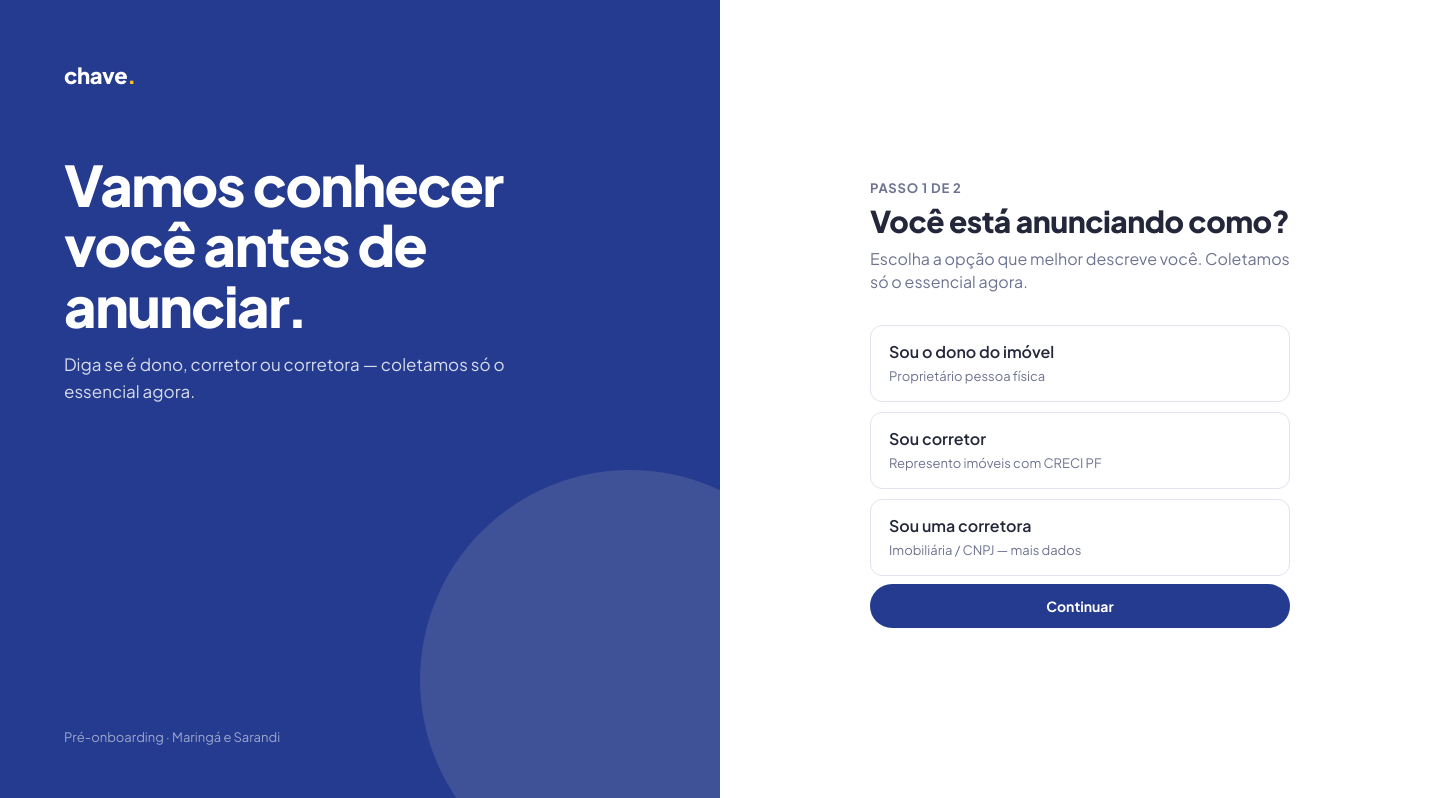
Scenario: OnboardingListPage › completes corretora persona with required fields
Expected: the heading "Você está anunciando como?" is shown, [870,203,1290,239]
Click the radio button labelled "Sou uma corretora Imobiliária / CNPJ — mais dados" at (960, 526), box [870,499,1290,576]
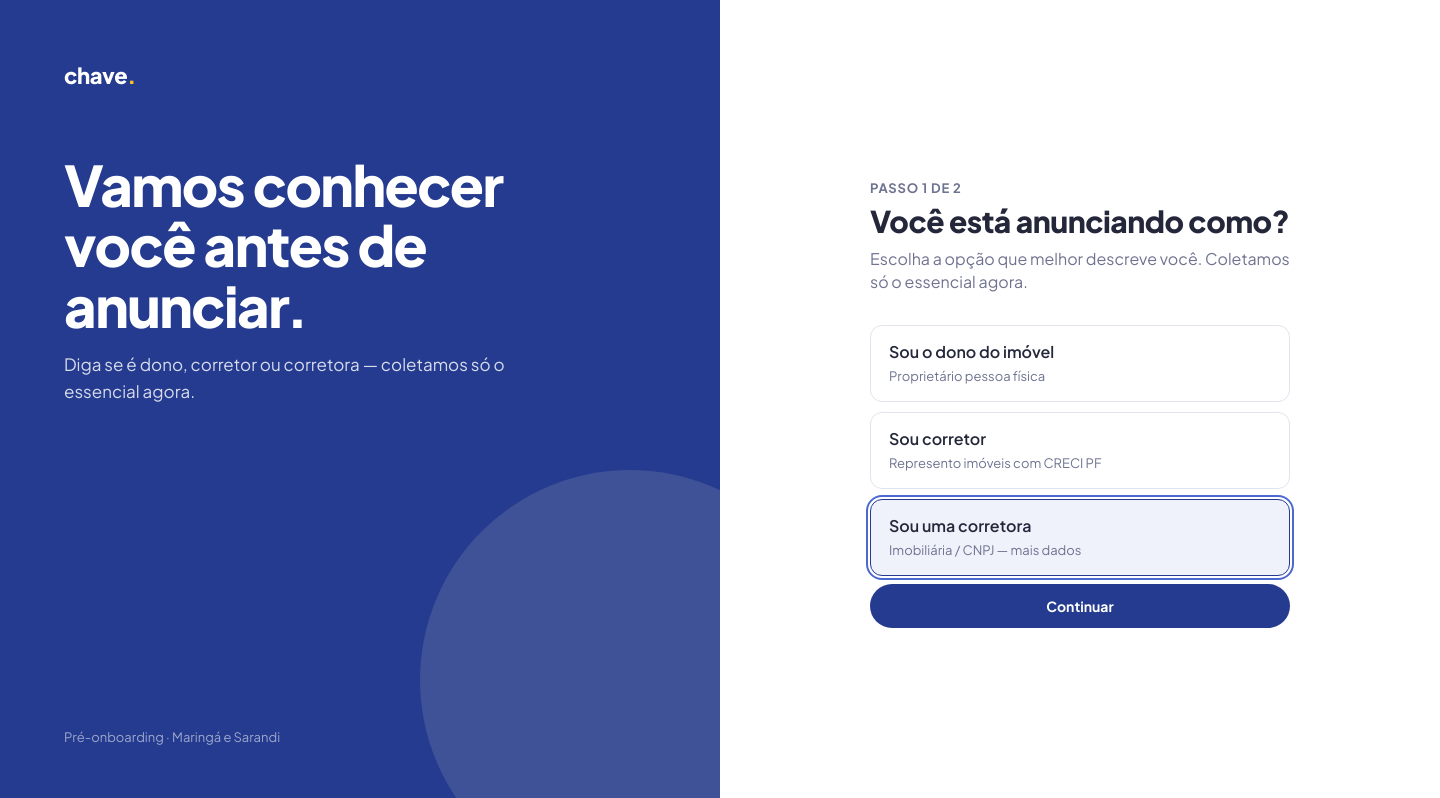
Click the button "Continuar" at (1080, 606), box [870,584,1290,628]
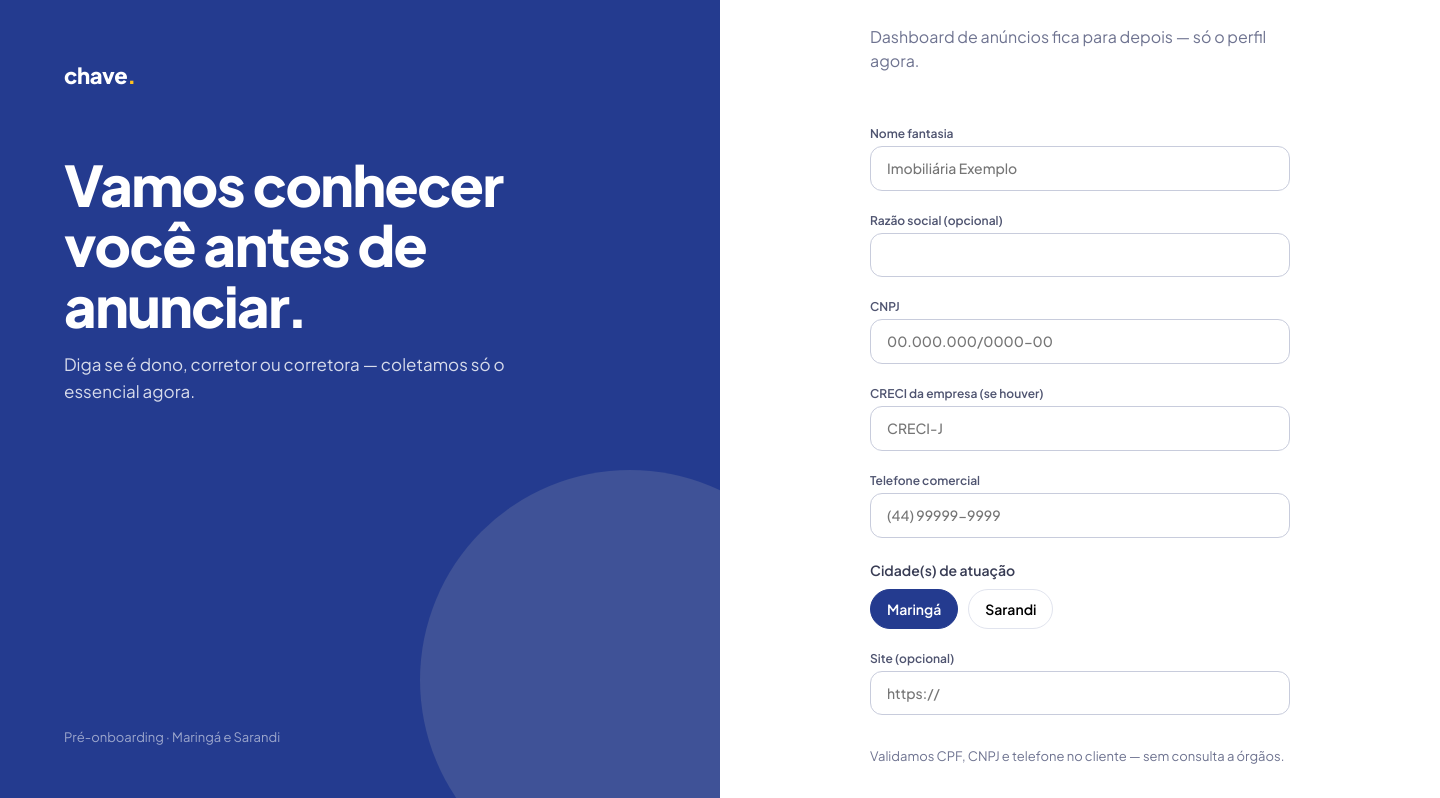
Type "Chave Imob" into the field labelled "Nome fantasia" at (1080, 168), box [885,159,1275,178]
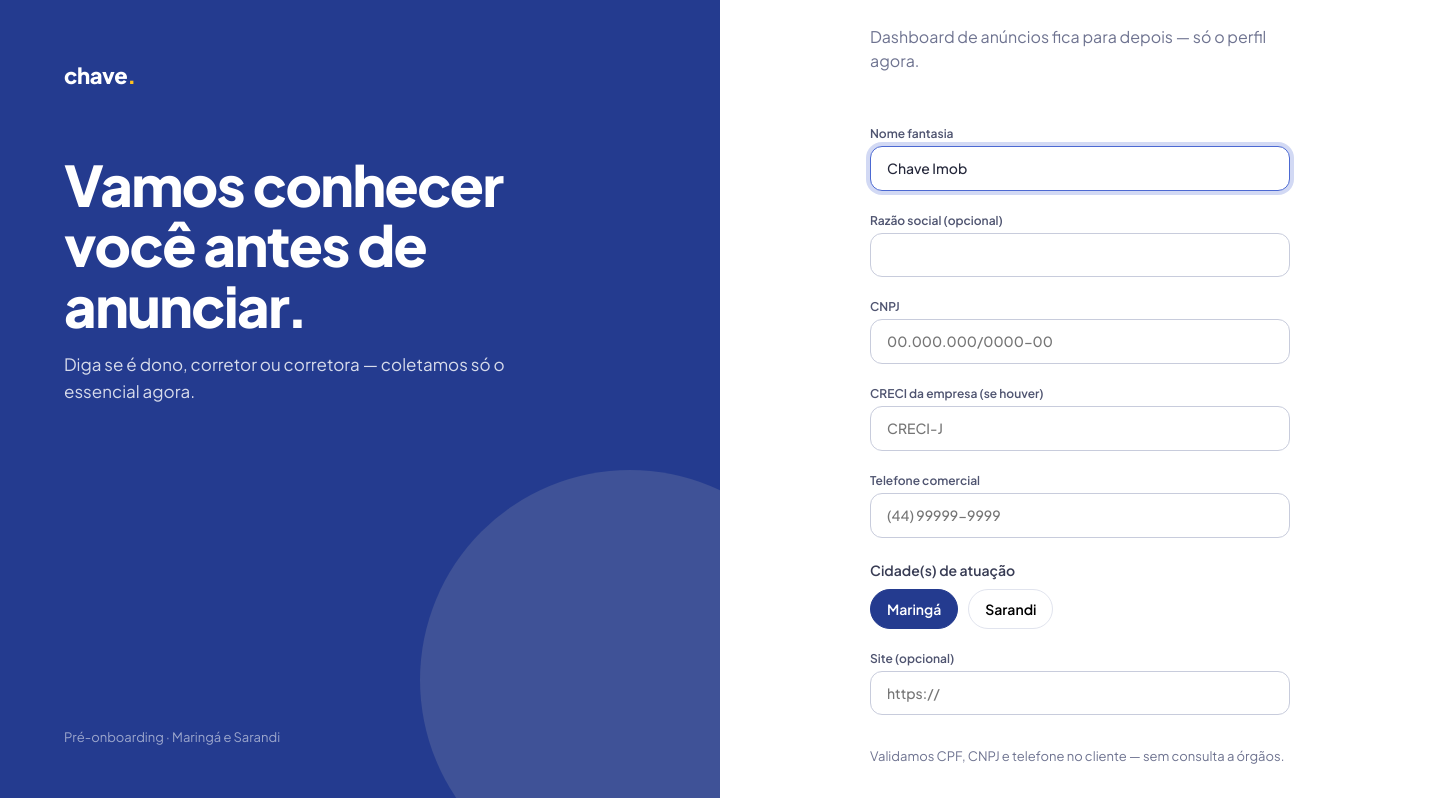
Type "11222333000181" into the field labelled "CNPJ" at (1080, 342), box [885,332,1275,351]
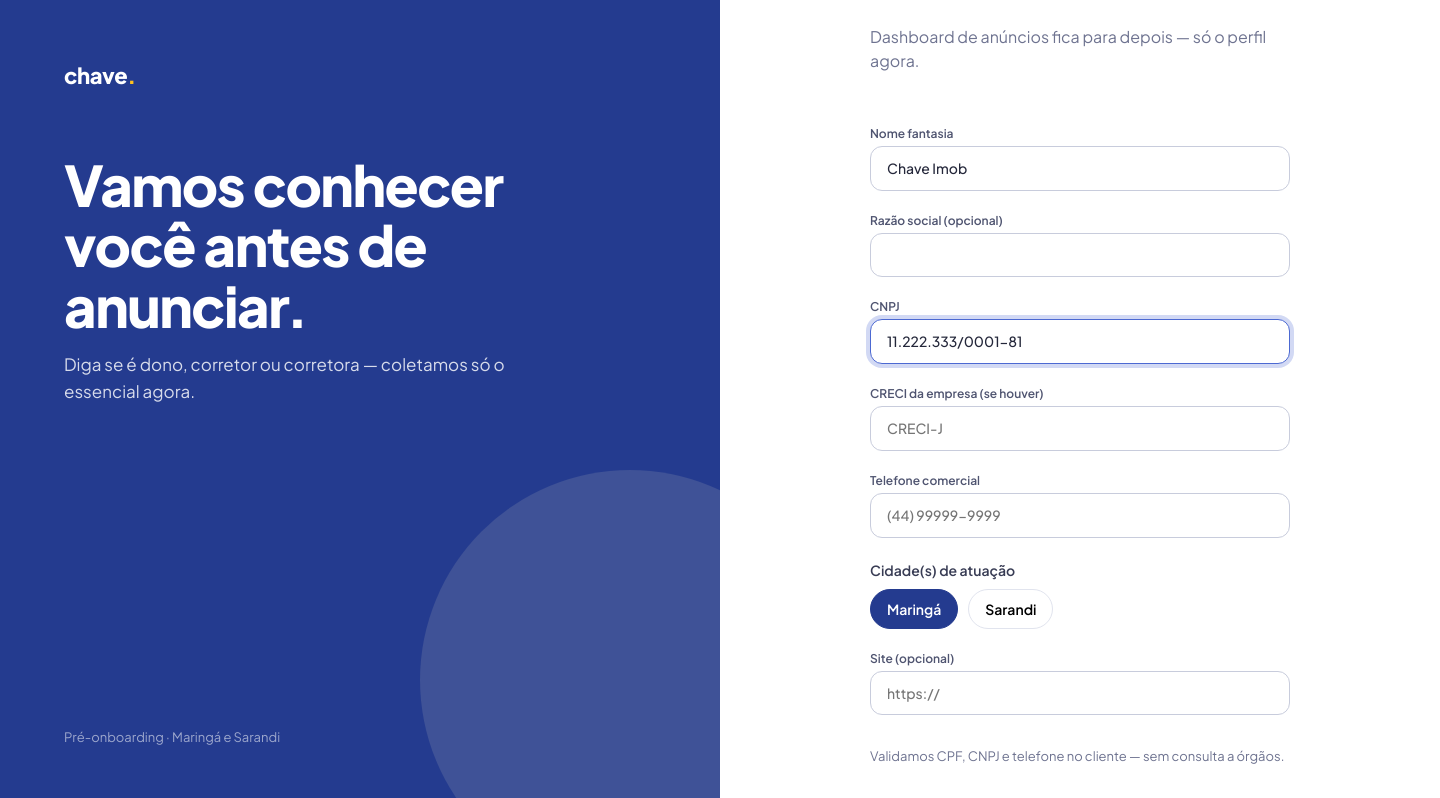
Type "4430223344" into the field labelled "Telefone comercial" at (1080, 515), box [885,506,1275,525]
(page scrolled)
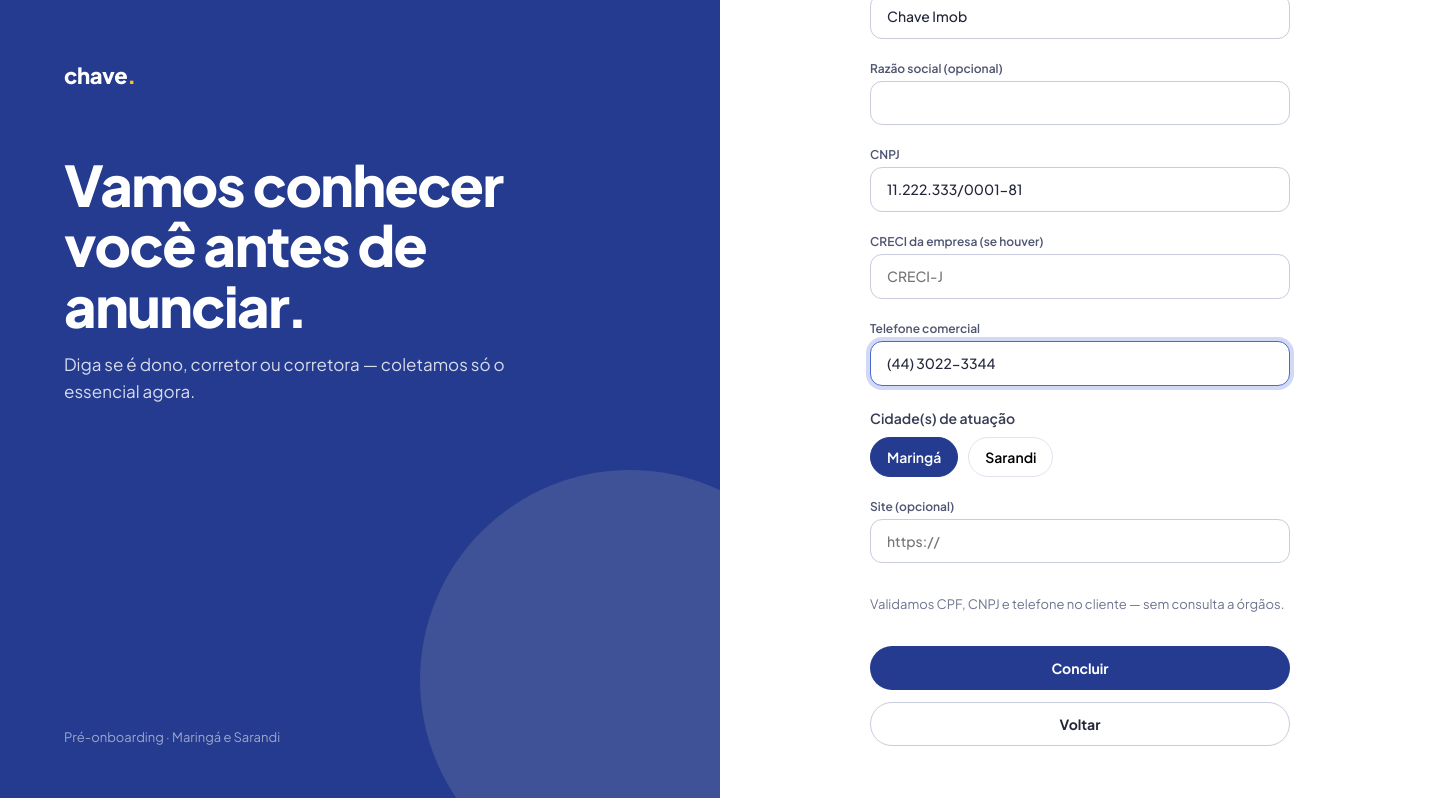
Click the button "Concluir" at (1080, 668), box [870,646,1290,690]
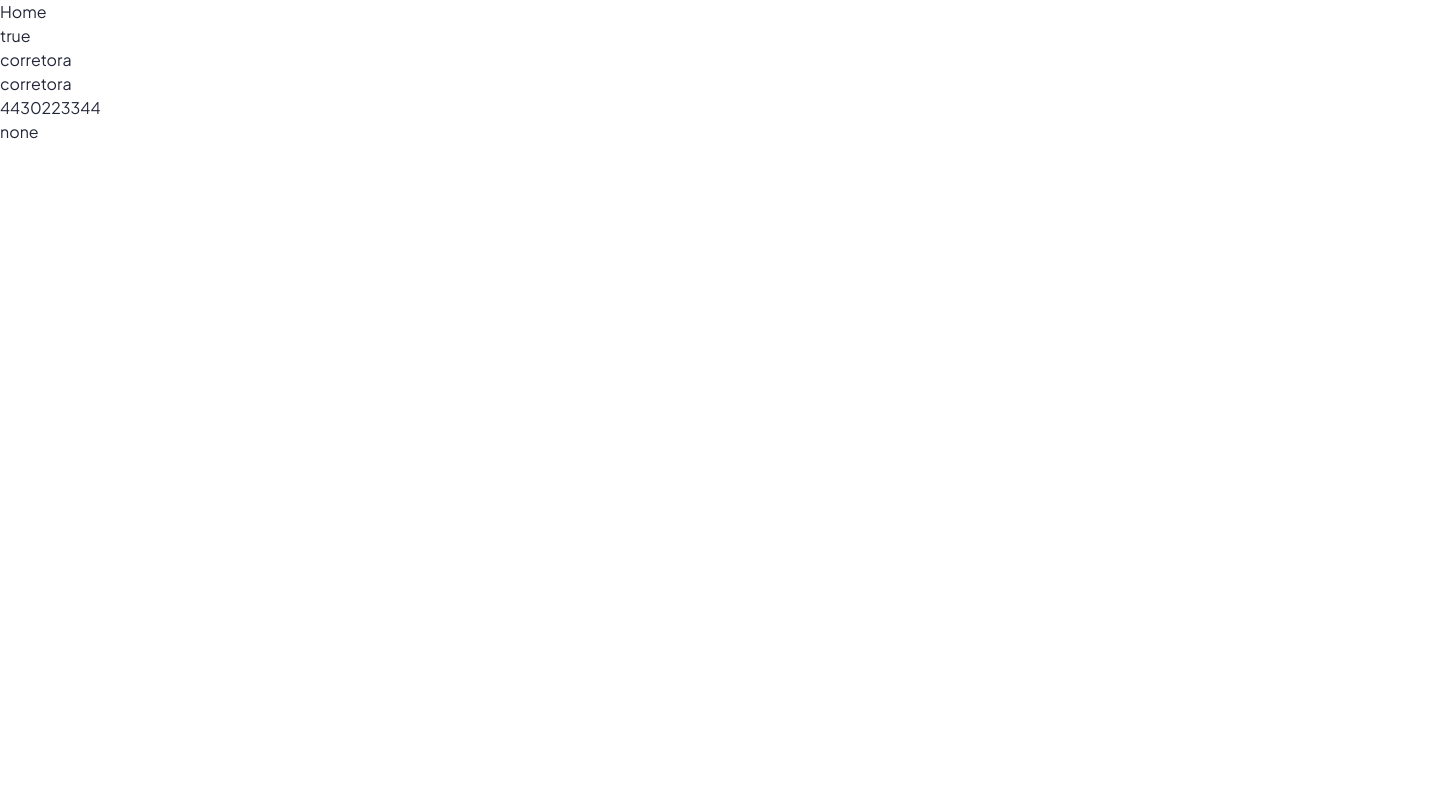
Now the text "Home" is shown, box [0,1,47,22]
Now the text with test id "role" reads "corretora", box [0,49,72,70]
Now the text with test id "kind" reads "corretora", box [0,73,72,94]
